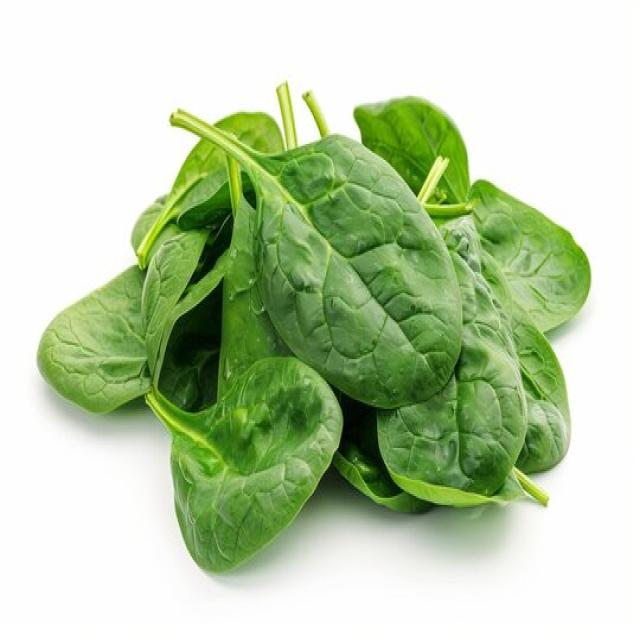Radish: (165, 101, 463, 411), (275, 78, 297, 150)
Spinach: (36, 80, 590, 574)
